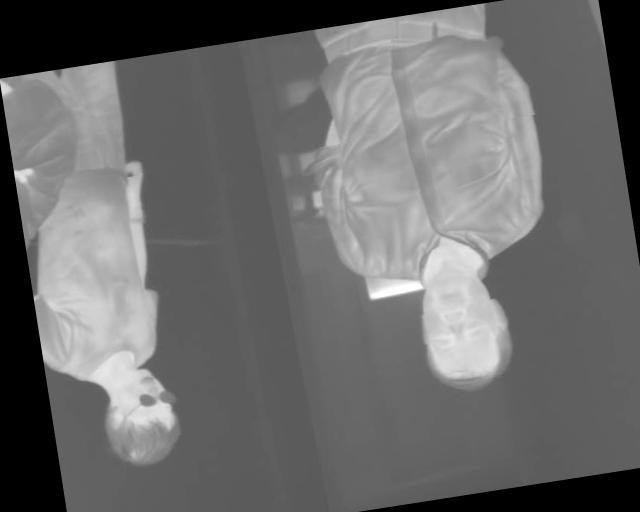face: (410, 259, 519, 399), (96, 362, 185, 474)
